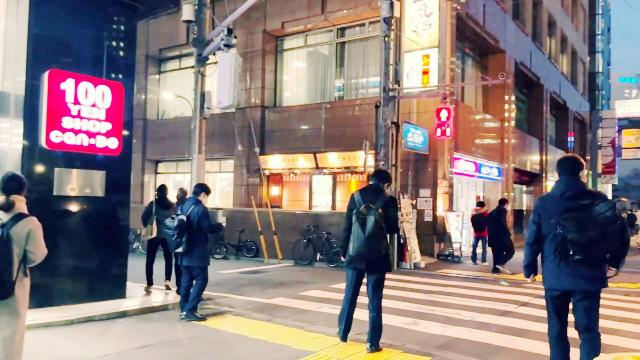berdiri: (518, 155, 630, 360), (336, 168, 400, 356), (4, 164, 38, 360), (174, 174, 218, 323)
